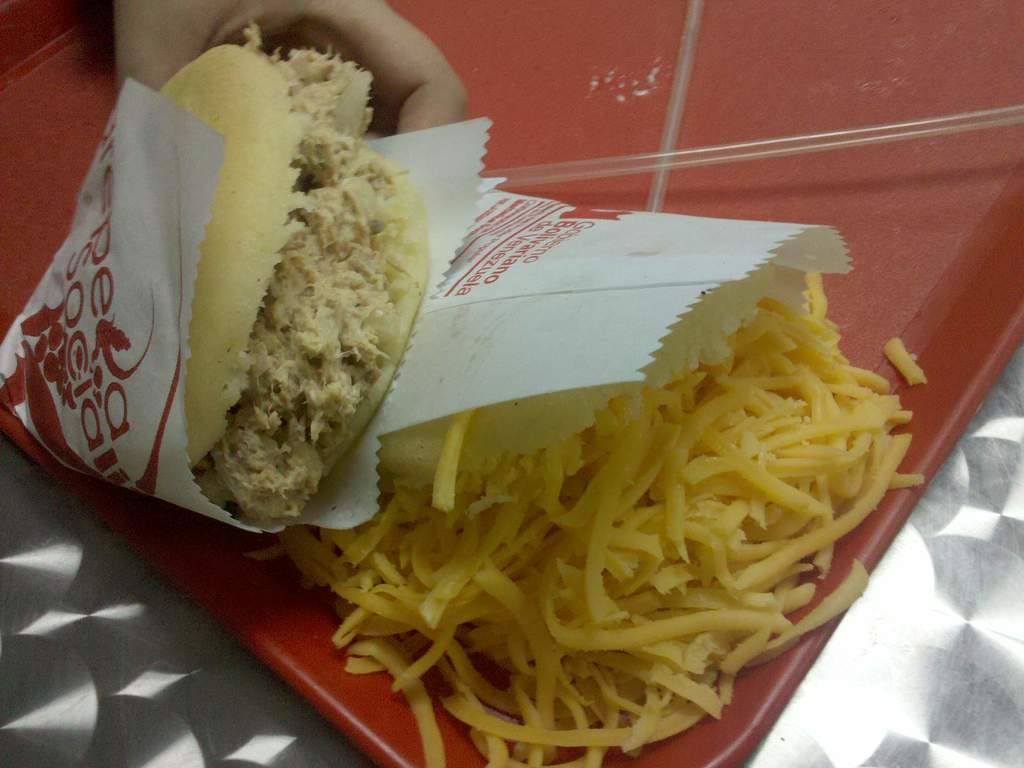French fries: (375, 254, 780, 502)
